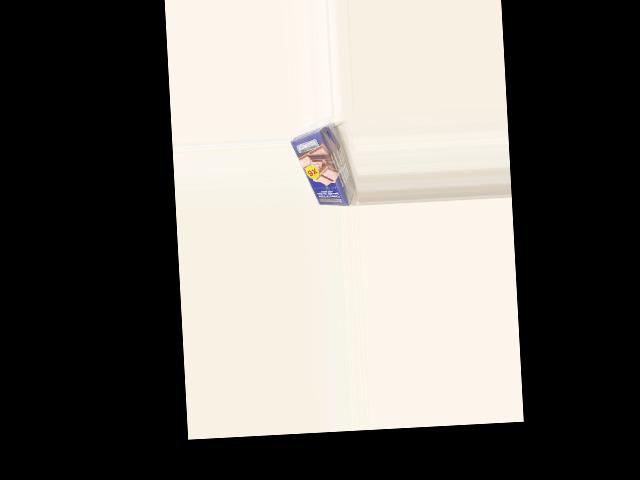chocolate: (289, 127, 354, 209)
